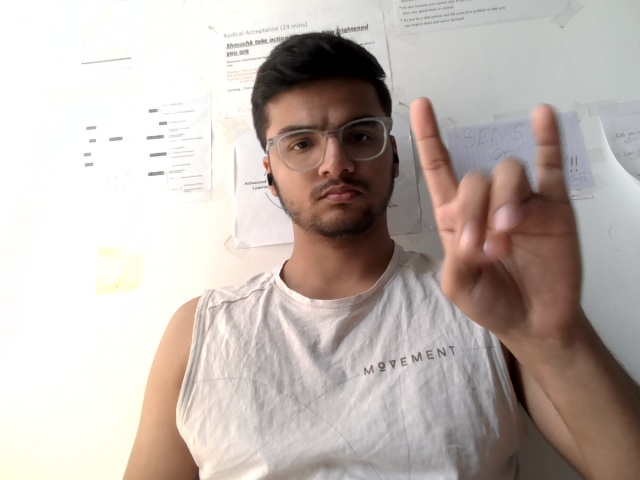iloveyou: (399, 75, 616, 362)
